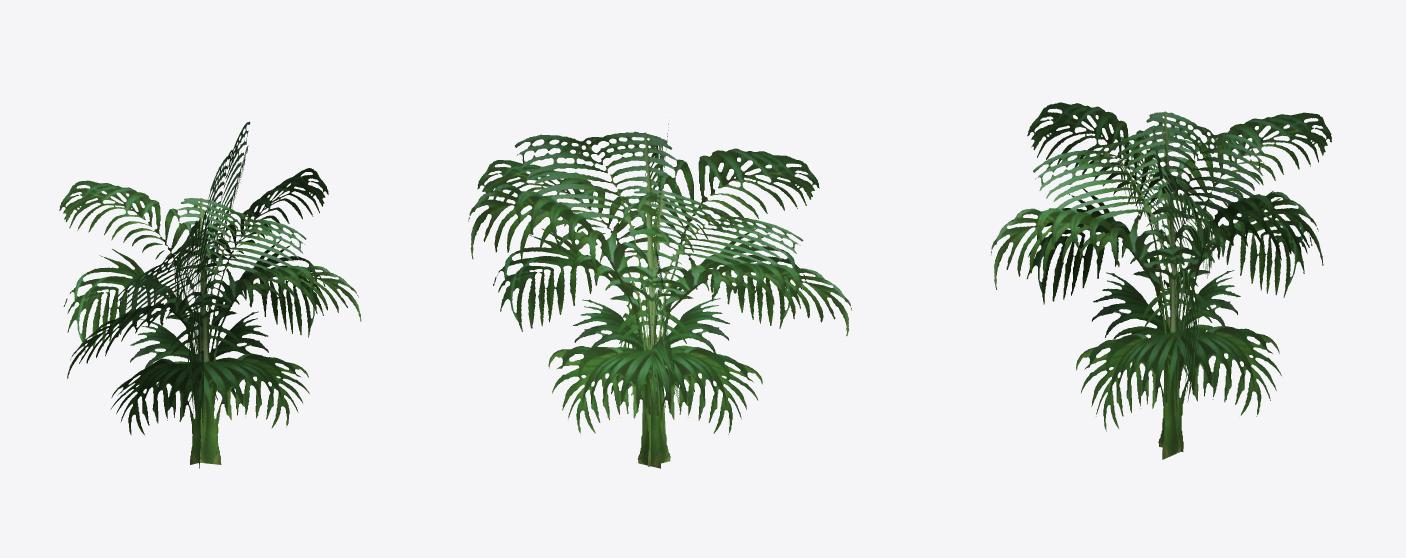
The model's file is obj__palms2.obj.
3 views of the same model, side by side, from view 1: azimuth 30°, elevation 25°; view 2: azimuth 150°, elevation 25°; view 3: azimuth 270°, elevation 25° (orthographic). The views are drawn at different scales.
Parts seen in each view (by area): view 1: palms2.tga; view 2: palms2.tga; view 3: palms2.tga.
Part boxes in pixels (box(x1,y1,x2,y2)): palms2.tga: box(59, 121, 361, 468); palms2.tga: box(468, 124, 851, 468); palms2.tga: box(990, 102, 1331, 459).
Bounding box in the file's own units: 95.02 × 88.34 × 83.77.
1 material, 1 textured.
